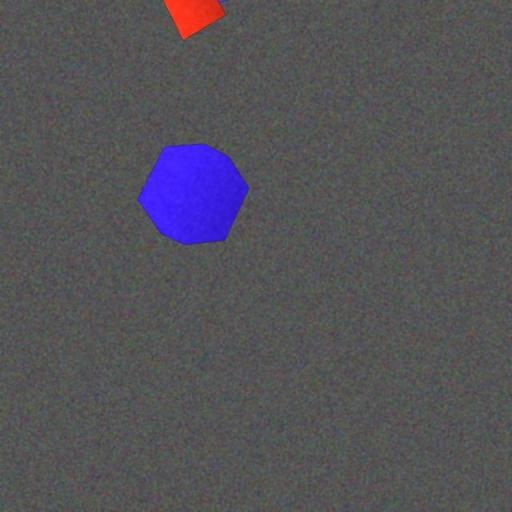RED_SQUARE: (157, 0, 226, 42)
